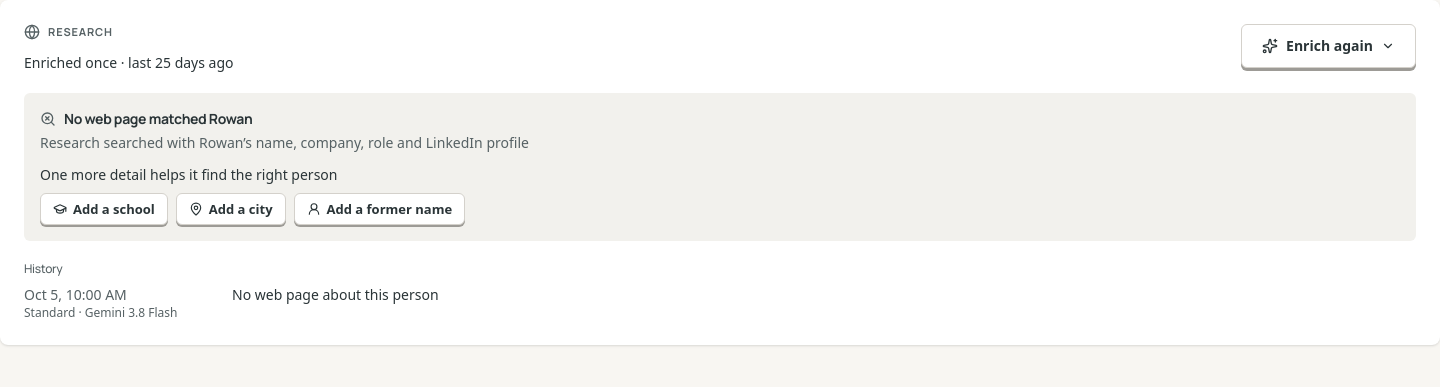
Test case: one more detail, typed in the card › closes on Escape, and gives focus back to its button
Click the button "Add a school": (104, 208) [40, 192, 168, 224]
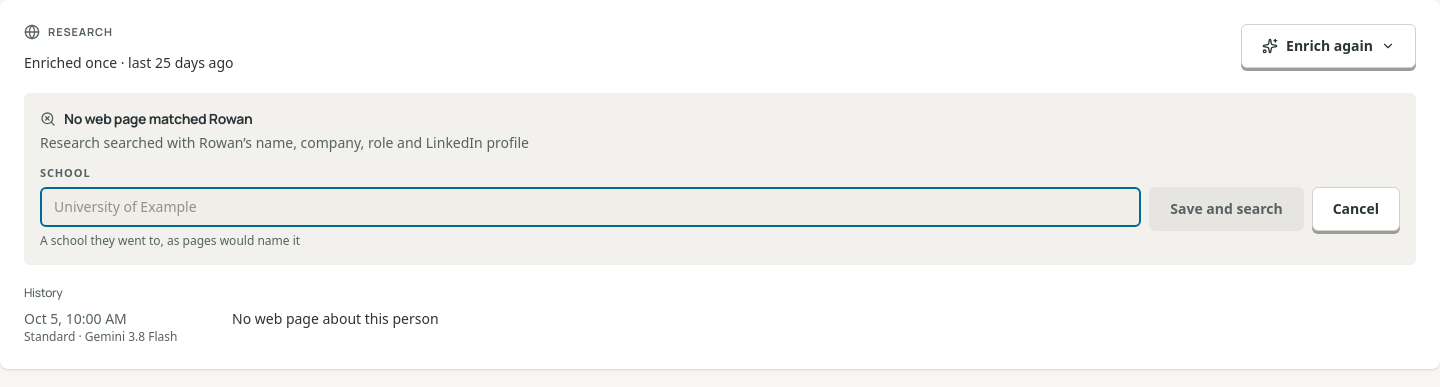
Press Escape in the field labelled "School", box [40, 187, 1141, 227]
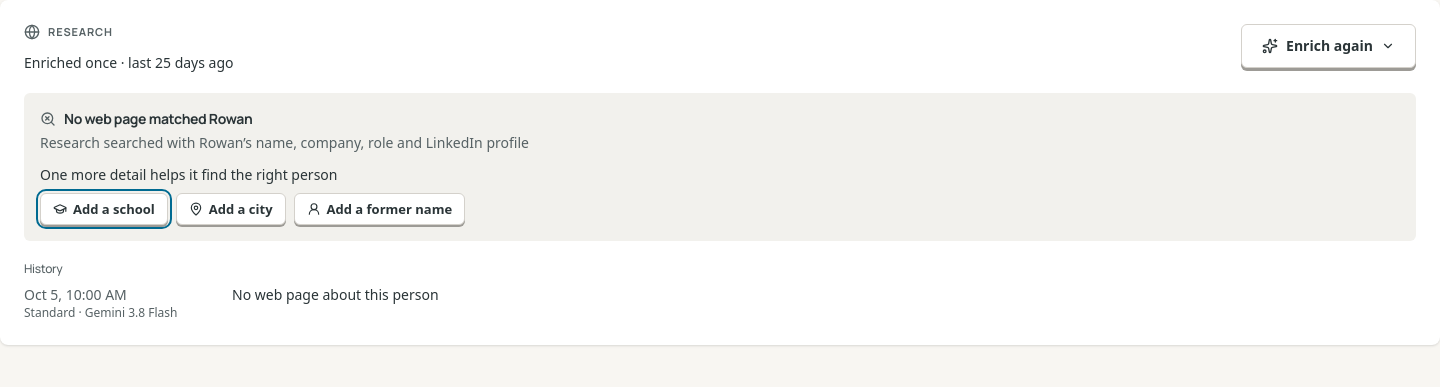
Expected: the button "Add a school" is shown, [40, 192, 168, 224]
